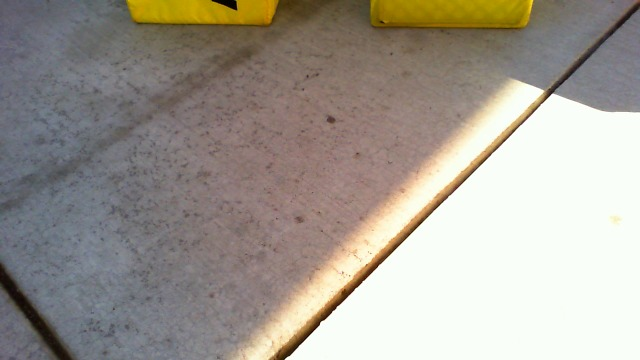cube: (365, 1, 536, 30), (126, 1, 282, 28)
